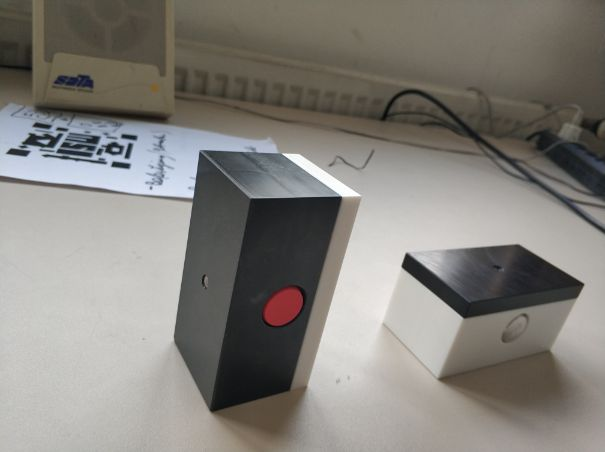black+white+silver: (380, 242, 586, 381)
white+black+red: (170, 149, 365, 414)
